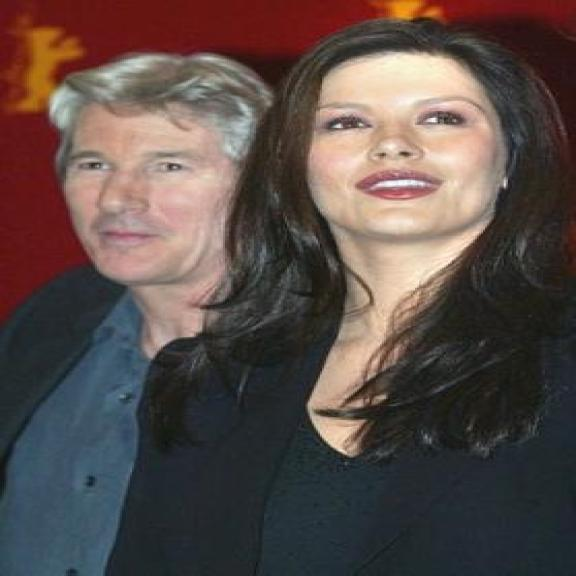face: (296, 41, 521, 248), (54, 83, 246, 290)
